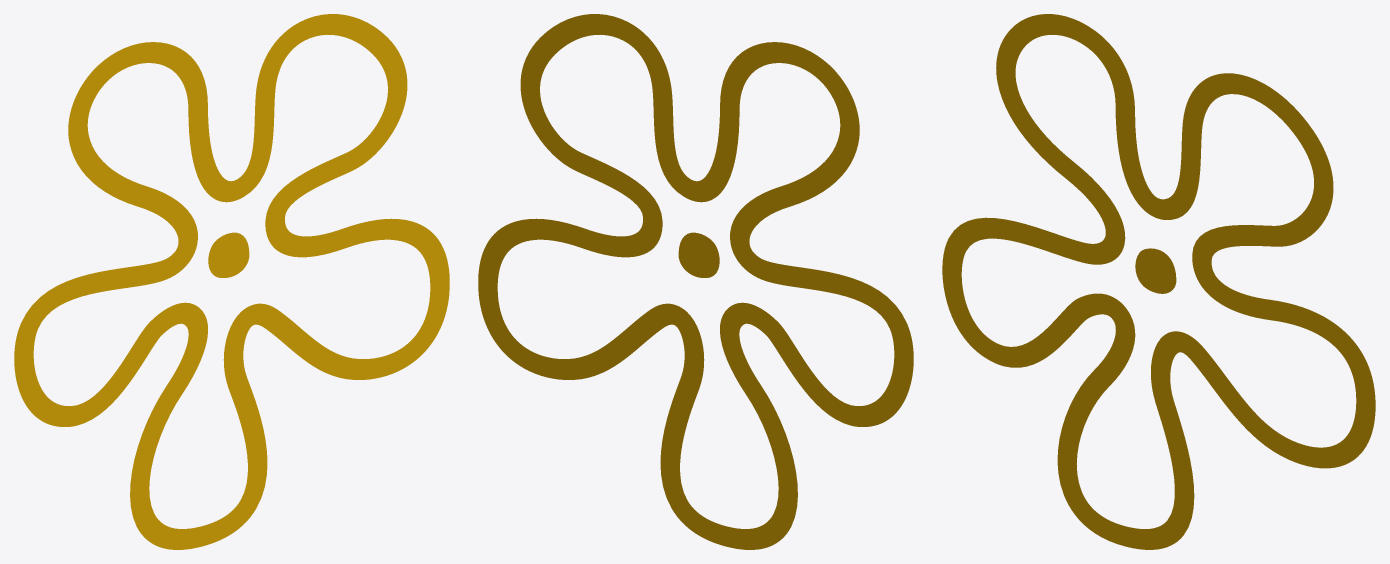
Rendered from flower_11.obj.
The picture shows the model from 3 angles, left to right: view 1: azimuth 30°, elevation 25°; view 2: azimuth 150°, elevation 25°; view 3: azimuth 330°, elevation 25°; orthographic projection.
Visible parts, largest first — view 1: flower_11; view 2: flower_11; view 3: flower_11.
Part boxes in pixels (x1=…): flower_11: x1=14, y1=14, x2=449, y2=549; flower_11: x1=478, y1=14, x2=913, y2=549; flower_11: x1=942, y1=14, x2=1375, y2=549.
Size of the model in its own units: 2.59 by 2.95 by 0.
